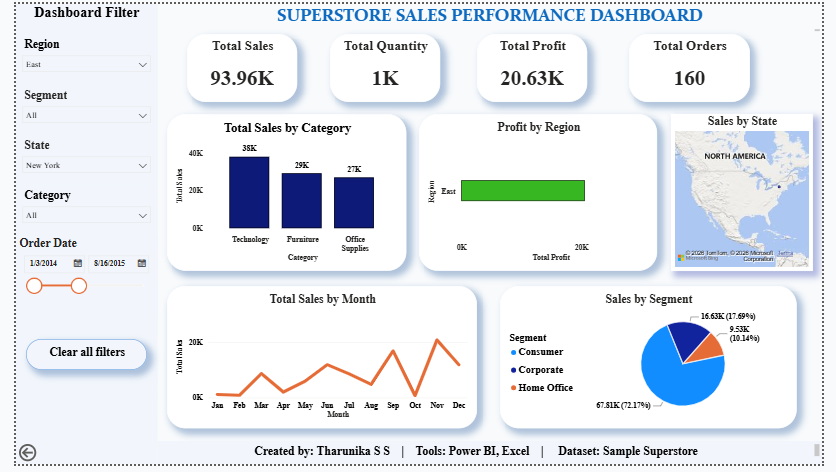

The dashboard page shown, as its layout file describes it:
{"tool":"powerbi","page":{"name":"Page 1","canvas":[1280,730],"ordinal":0},"visuals":[{"type":"textbox","title":"        Dashboard Filter","box":[0,0,224.6,770.8],"z":0},{"type":"textbox","title":"SUPERSTORE SALES PERFORMANCE DASHBOARD","box":[223.1,0,1056.9,47.7],"z":1000},{"type":"clusteredColumnChart","title":"Total Sales by Category","fields":{"Category":["Sample - Superstore.Category"],"Y":["Sample - Superstore.Total Sales"]},"box":[240,175.4,380,249.2],"z":2000},{"type":"barChart","title":"Profit by Region","fields":{"Category":["Sample - Superstore.Region"],"Y":["Sample - Superstore.Total Profit"]},"box":[640,175.4,378.5,249.2],"z":3000},{"type":"pieChart","title":"Sales by Segment","fields":{"Category":["Sample - Superstore.Segment"],"Y":["Sample - Superstore.Total Sales"]},"box":[767.7,447.7,470.8,226.2],"z":4000},{"type":"cardVisual","title":"Total Profit","fields":{"Data":["Sample - Superstore.Total Profit"]},"box":[732.3,47.7,175.4,107.7],"z":5000},{"type":"slicer","fields":{"Values":["Sample - Superstore.Category"]},"box":[0,288,224,80],"z":7000},{"type":"lineChart","fields":{"Y":["Sample - Superstore.Total Sales"],"Category":["Sample - Superstore.Month"]},"box":[240,447.7,492.3,226.2],"z":8000},{"type":"slicer","fields":{"Values":["Sample - Superstore.Region"]},"box":[0,48,224,80],"z":9000},{"type":"slicer","fields":{"Values":["Sample - Superstore.Segment"]},"box":[0,128,224,80],"z":10000},{"type":"slicer","fields":{"Values":["Sample - Superstore.State"]},"box":[0,208,224,80],"z":11000},{"type":"slicer","title":"Order Date","fields":{"Values":["Sample - Superstore.Order Date"]},"box":[0,367.7,224.6,127.7],"z":12000},{"type":"actionButton","title":"Clear all filters","box":[15.4,532.3,192.3,49.2],"z":13000},{"type":"cardVisual","title":"Total Orders","fields":{"Data":["Sample - Superstore.Total Orders"]},"box":[972.3,47.7,192.3,107.7],"z":14000},{"type":"cardVisual","title":"Total Quantity","fields":{"Data":["Sample - Superstore.TOTAL QUANTITY"]},"box":[498.5,47.7,175.4,107.7],"z":15000},{"type":"cardVisual","title":"Total Sales","fields":{"Data":["Sample - Superstore.Total Sales"]},"box":[270.8,47.7,175.4,107.7],"z":16000},{"type":"map","title":"Sales by State","fields":{"Category":["Sample - Superstore.State"]},"box":[1040,175.4,224.6,249.2],"z":17000},{"type":"actionButton","box":[0,693.8,41.5,36.9],"z":17500},{"type":"textbox","box":[224.6,693.8,1055.4,36.9],"z":17501}]}

Visuals, with their boxes in screenshot pixels (x1, y1, x2, y2), scaled from the page's 1280x730 canvas onto the 836x472 screenshot:
"        Dashboard Filter" textbox: pyautogui.locateOnScreen(0, 0, 147, 471)
"SUPERSTORE SALES PERFORMANCE DASHBOARD" textbox: pyautogui.locateOnScreen(146, 0, 835, 31)
"Total Sales by Category" clusteredColumnChart: pyautogui.locateOnScreen(157, 113, 405, 275)
"Profit by Region" barChart: pyautogui.locateOnScreen(418, 113, 665, 275)
"Sales by Segment" pieChart: pyautogui.locateOnScreen(501, 289, 809, 436)
"Total Profit" cardVisual: pyautogui.locateOnScreen(478, 31, 593, 100)
slicer - Sample - Superstore.Category: pyautogui.locateOnScreen(0, 186, 146, 238)
lineChart - Sample - Superstore.Total Sales x Sample - Superstore.Month: pyautogui.locateOnScreen(157, 289, 478, 436)
slicer - Sample - Superstore.Region: pyautogui.locateOnScreen(0, 31, 146, 83)
slicer - Sample - Superstore.Segment: pyautogui.locateOnScreen(0, 83, 146, 134)
slicer - Sample - Superstore.State: pyautogui.locateOnScreen(0, 134, 146, 186)
"Order Date" slicer: pyautogui.locateOnScreen(0, 238, 147, 320)
"Clear all filters" actionButton: pyautogui.locateOnScreen(10, 344, 136, 376)
"Total Orders" cardVisual: pyautogui.locateOnScreen(635, 31, 761, 100)
"Total Quantity" cardVisual: pyautogui.locateOnScreen(326, 31, 440, 100)
"Total Sales" cardVisual: pyautogui.locateOnScreen(177, 31, 291, 100)
"Sales by State" map: pyautogui.locateOnScreen(679, 113, 826, 275)
actionButton: pyautogui.locateOnScreen(0, 449, 27, 471)
textbox: pyautogui.locateOnScreen(147, 449, 835, 471)
